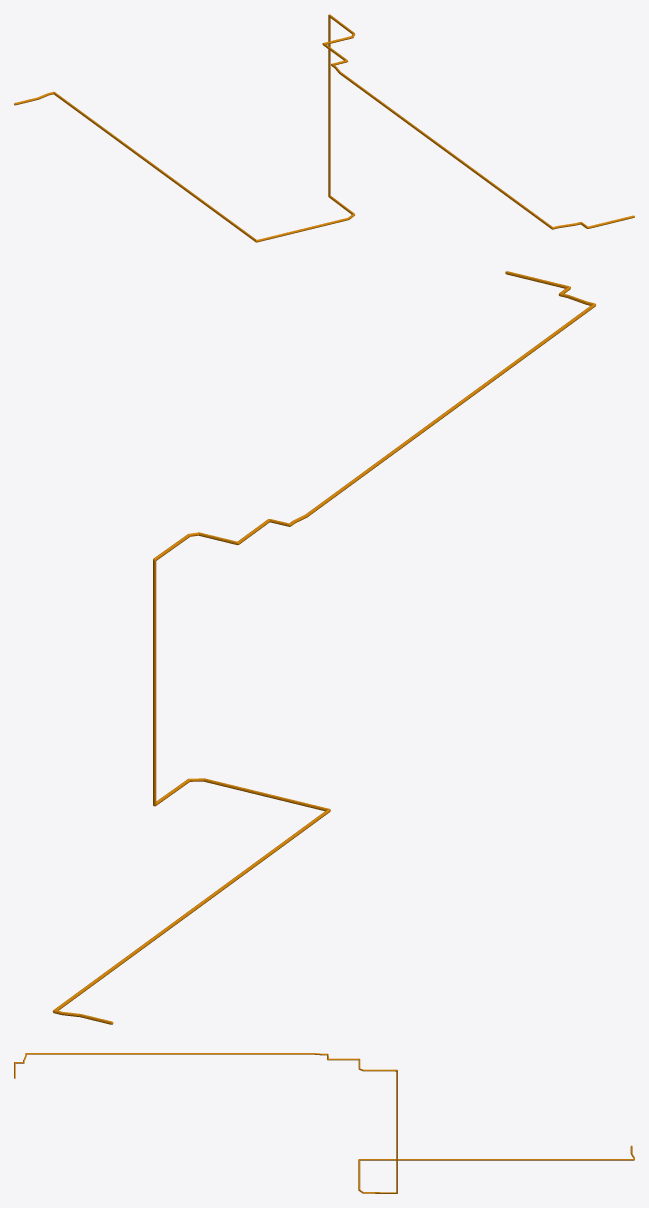
The picture shows the model from 3 angles, top to bottom: view 1: azimuth 30°, elevation 25°; view 2: azimuth 150°, elevation 25°; view 3: azimuth 270°, elevation 25°; orthographic projection. The views are drawn at different scales.
Size of the model in its own units: 1440 by 1520 by 6895.
